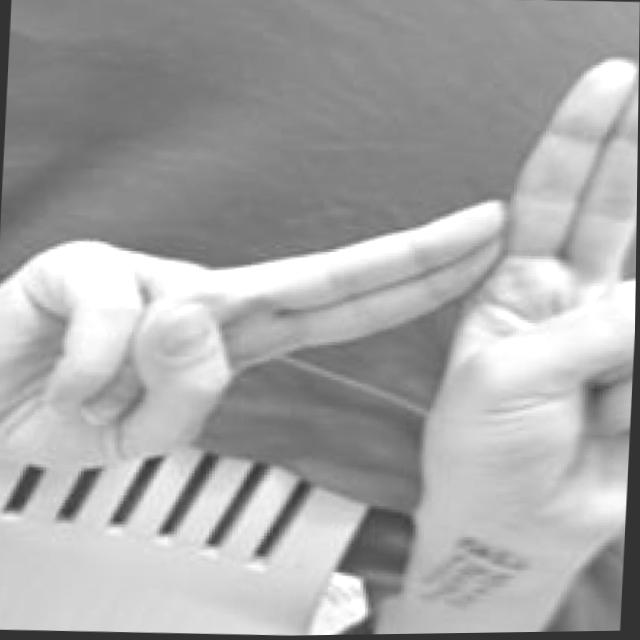K: (0, 32, 639, 613)
